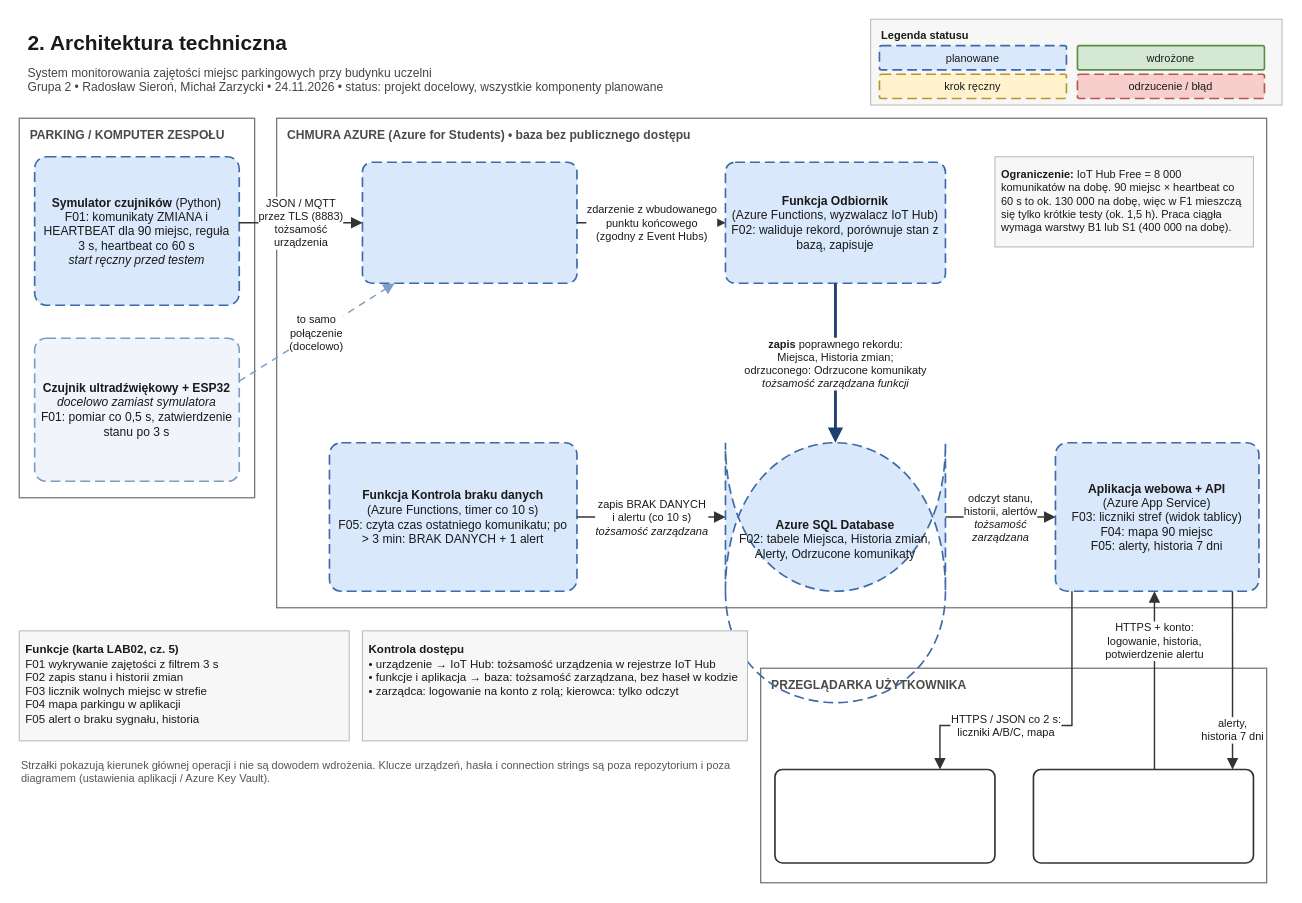
Image size: 1302x903. Some labels were removed from this diagram. Each missing label, with the centre of its shape:
Azure IoT Hub (Free F1) F02: przyjmuje komunikaty, rejestr tożsamości urządzeń: the point at 469,222
Kierowca : widok tablicy przy wjeździe i mapa tylko odczyt, bez logowania: the point at 884,815
Zarządca parkingu : panel konto zarządcy (logowanie, rola): the point at 1143,815
